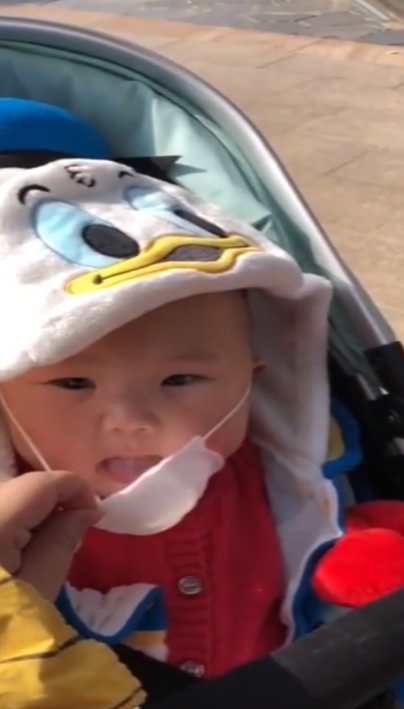mask_weared_incorrect: (1, 272, 276, 539)
